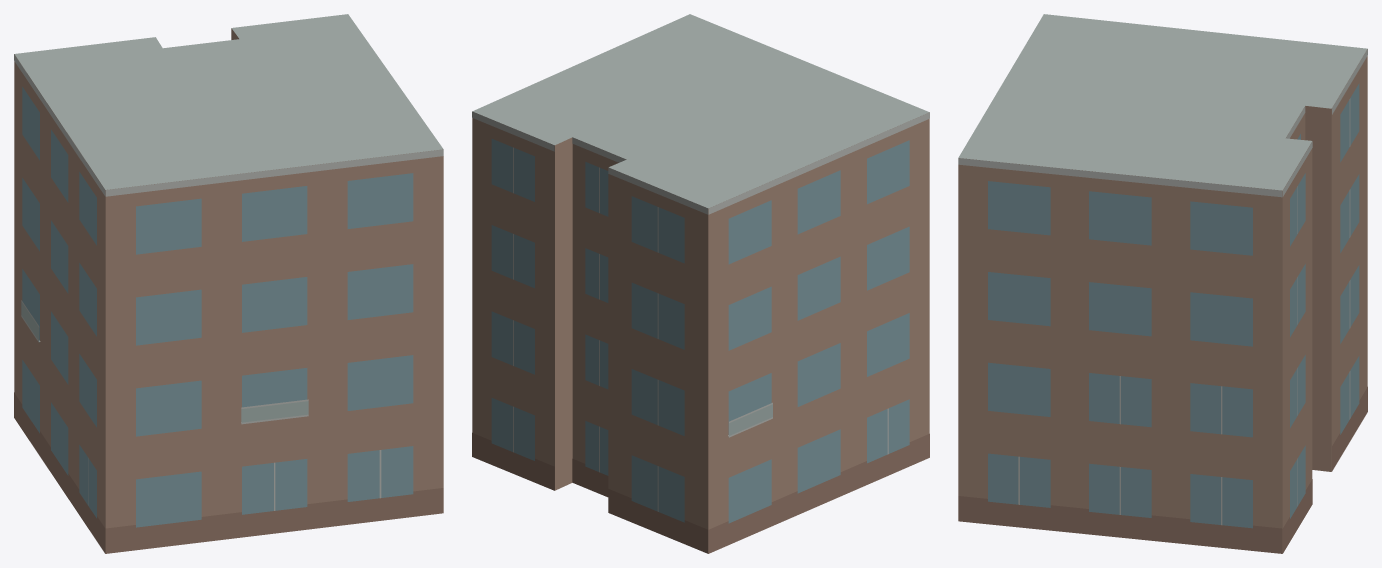
Rendered from survey-upis-32904580.glb.
The picture shows the model from 3 angles, left to right: view 1: azimuth 30°, elevation 25°; view 2: azimuth 150°, elevation 25°; view 3: azimuth 270°, elevation 25°; orthographic projection. The views are drawn at different scales.
Visible parts, largest first — view 1: survey-upis-32904580.tmp; view 2: survey-upis-32904580.tmp; view 3: survey-upis-32904580.tmp.
Part boxes in pixels (x1,y1,x2,y2): survey-upis-32904580.tmp: (14, 14, 443, 553); survey-upis-32904580.tmp: (472, 14, 929, 553); survey-upis-32904580.tmp: (958, 14, 1367, 553).
Bounding box in the file's own units: 13.66 × 13.1 × 13.39.
